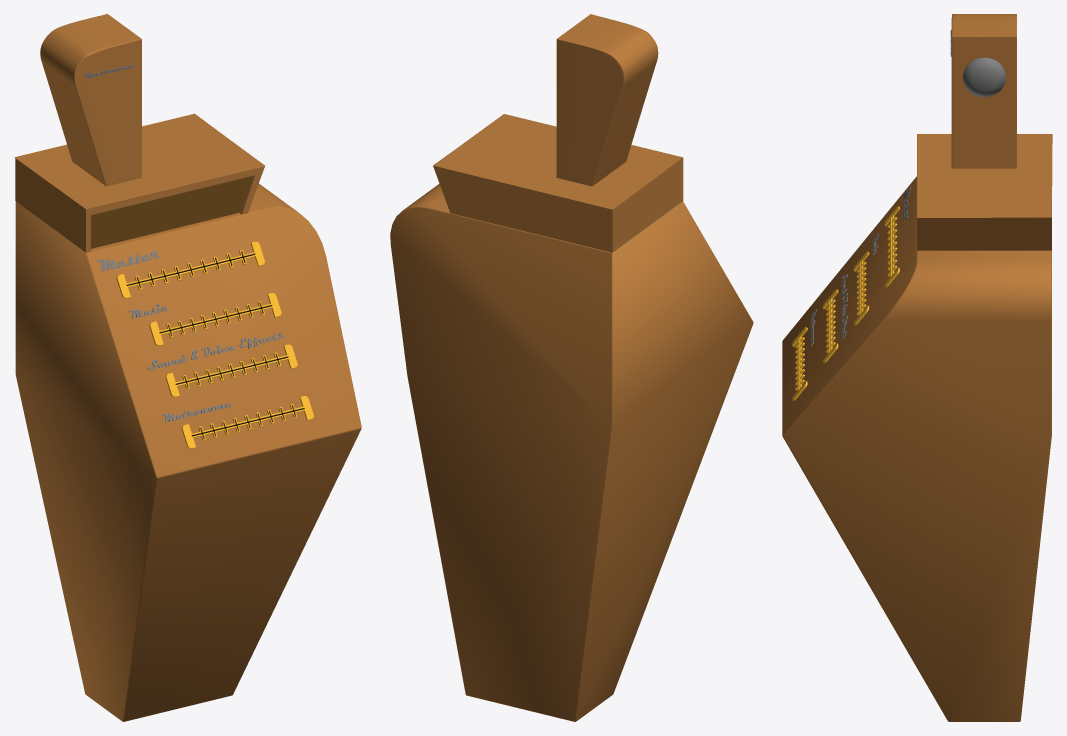
File: tele_mobilier.fbx
3 views of the same model, side by side, from view 1: azimuth 30°, elevation 25°; view 2: azimuth 150°, elevation 25°; view 3: azimuth 270°, elevation 25° (orthographic). The views are drawn at different scales.
Visible parts, largest first — view 1: Bloc principal, Bloc sortie son, Support Tele, Contour gold, Interieur sortie son, Interieur, text_S&V FX; view 2: Bloc principal, Bloc sortie son, Support Tele; view 3: Bloc principal, Bloc sortie son, Support Tele, Contour gold, Support metal.
Boxes of the visible parts, x1,y1,x2,y2 form: Bloc principal: [15, 183, 361, 721]; Bloc sortie son: [14, 113, 264, 252]; Support Tele: [40, 14, 141, 186]; Contour gold: [116, 241, 313, 448]; Interieur sortie son: [91, 176, 251, 248]; Interieur: [126, 251, 303, 438]; text_S&V FX: [147, 332, 285, 370]; Bloc principal: [390, 184, 753, 721]; Bloc sortie son: [433, 114, 683, 252]; Support Tele: [556, 14, 658, 186]; Bloc principal: [782, 176, 1051, 721]; Bloc sortie son: [917, 134, 1052, 250]; Support Tele: [951, 14, 1016, 168]; Contour gold: [792, 206, 899, 400]; Support metal: [963, 57, 1005, 97].
Size of the model in its own units: 364 by 1054 by 401.
